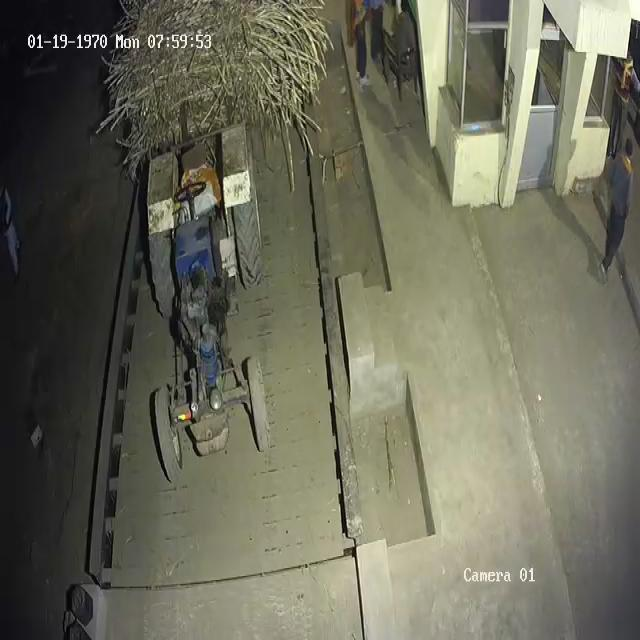Tratores - v5 YOLO V8L 2024-11-13: (139, 136, 282, 480)
